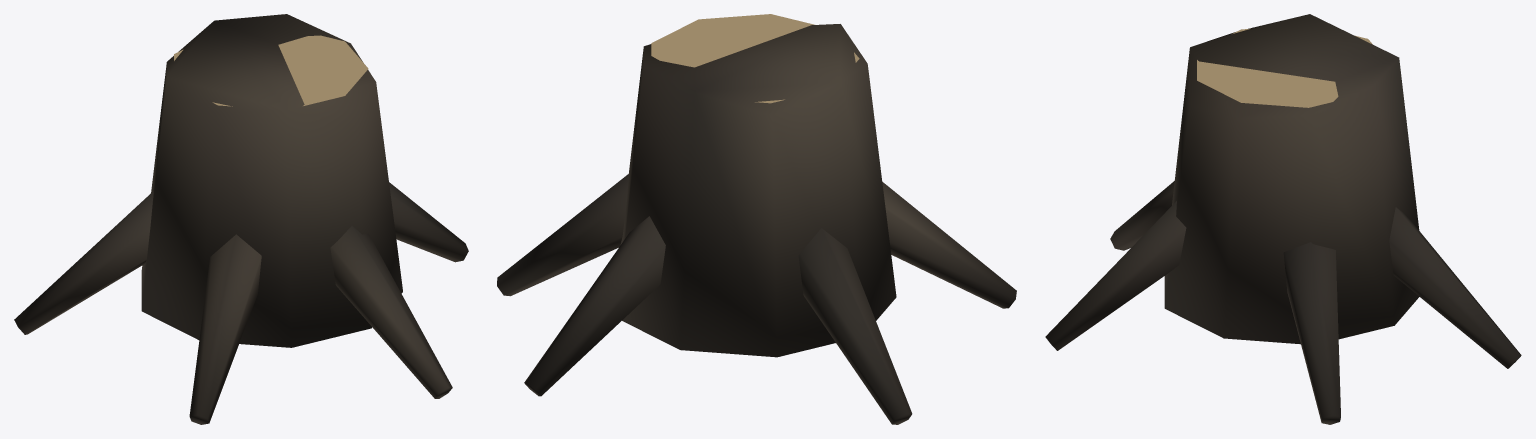
The model's file is stump_pine.glb.
The picture shows the model from 3 angles, left to right: view 1: azimuth 30°, elevation 25°; view 2: azimuth 150°, elevation 25°; view 3: azimuth 270°, elevation 25°; orthographic projection. The views are drawn at different scales.
Visible parts, largest first — view 1: stump_pine; view 2: stump_pine; view 3: stump_pine.
Boxes of the visible parts, x1,y1,x2,y2 form: stump_pine: (14, 14, 468, 424); stump_pine: (497, 14, 1016, 424); stump_pine: (1045, 14, 1521, 424).
Bounding box in the file's own units: 0.637 × 0.3905 × 0.6294.
